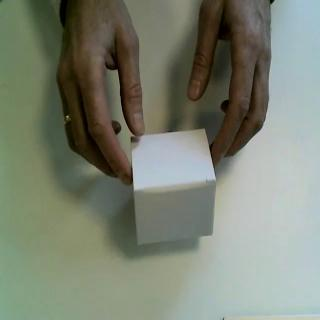apodorm5mg: (129, 126, 219, 247)
